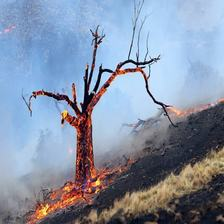fire: (59, 63, 142, 194), (25, 179, 121, 215)
